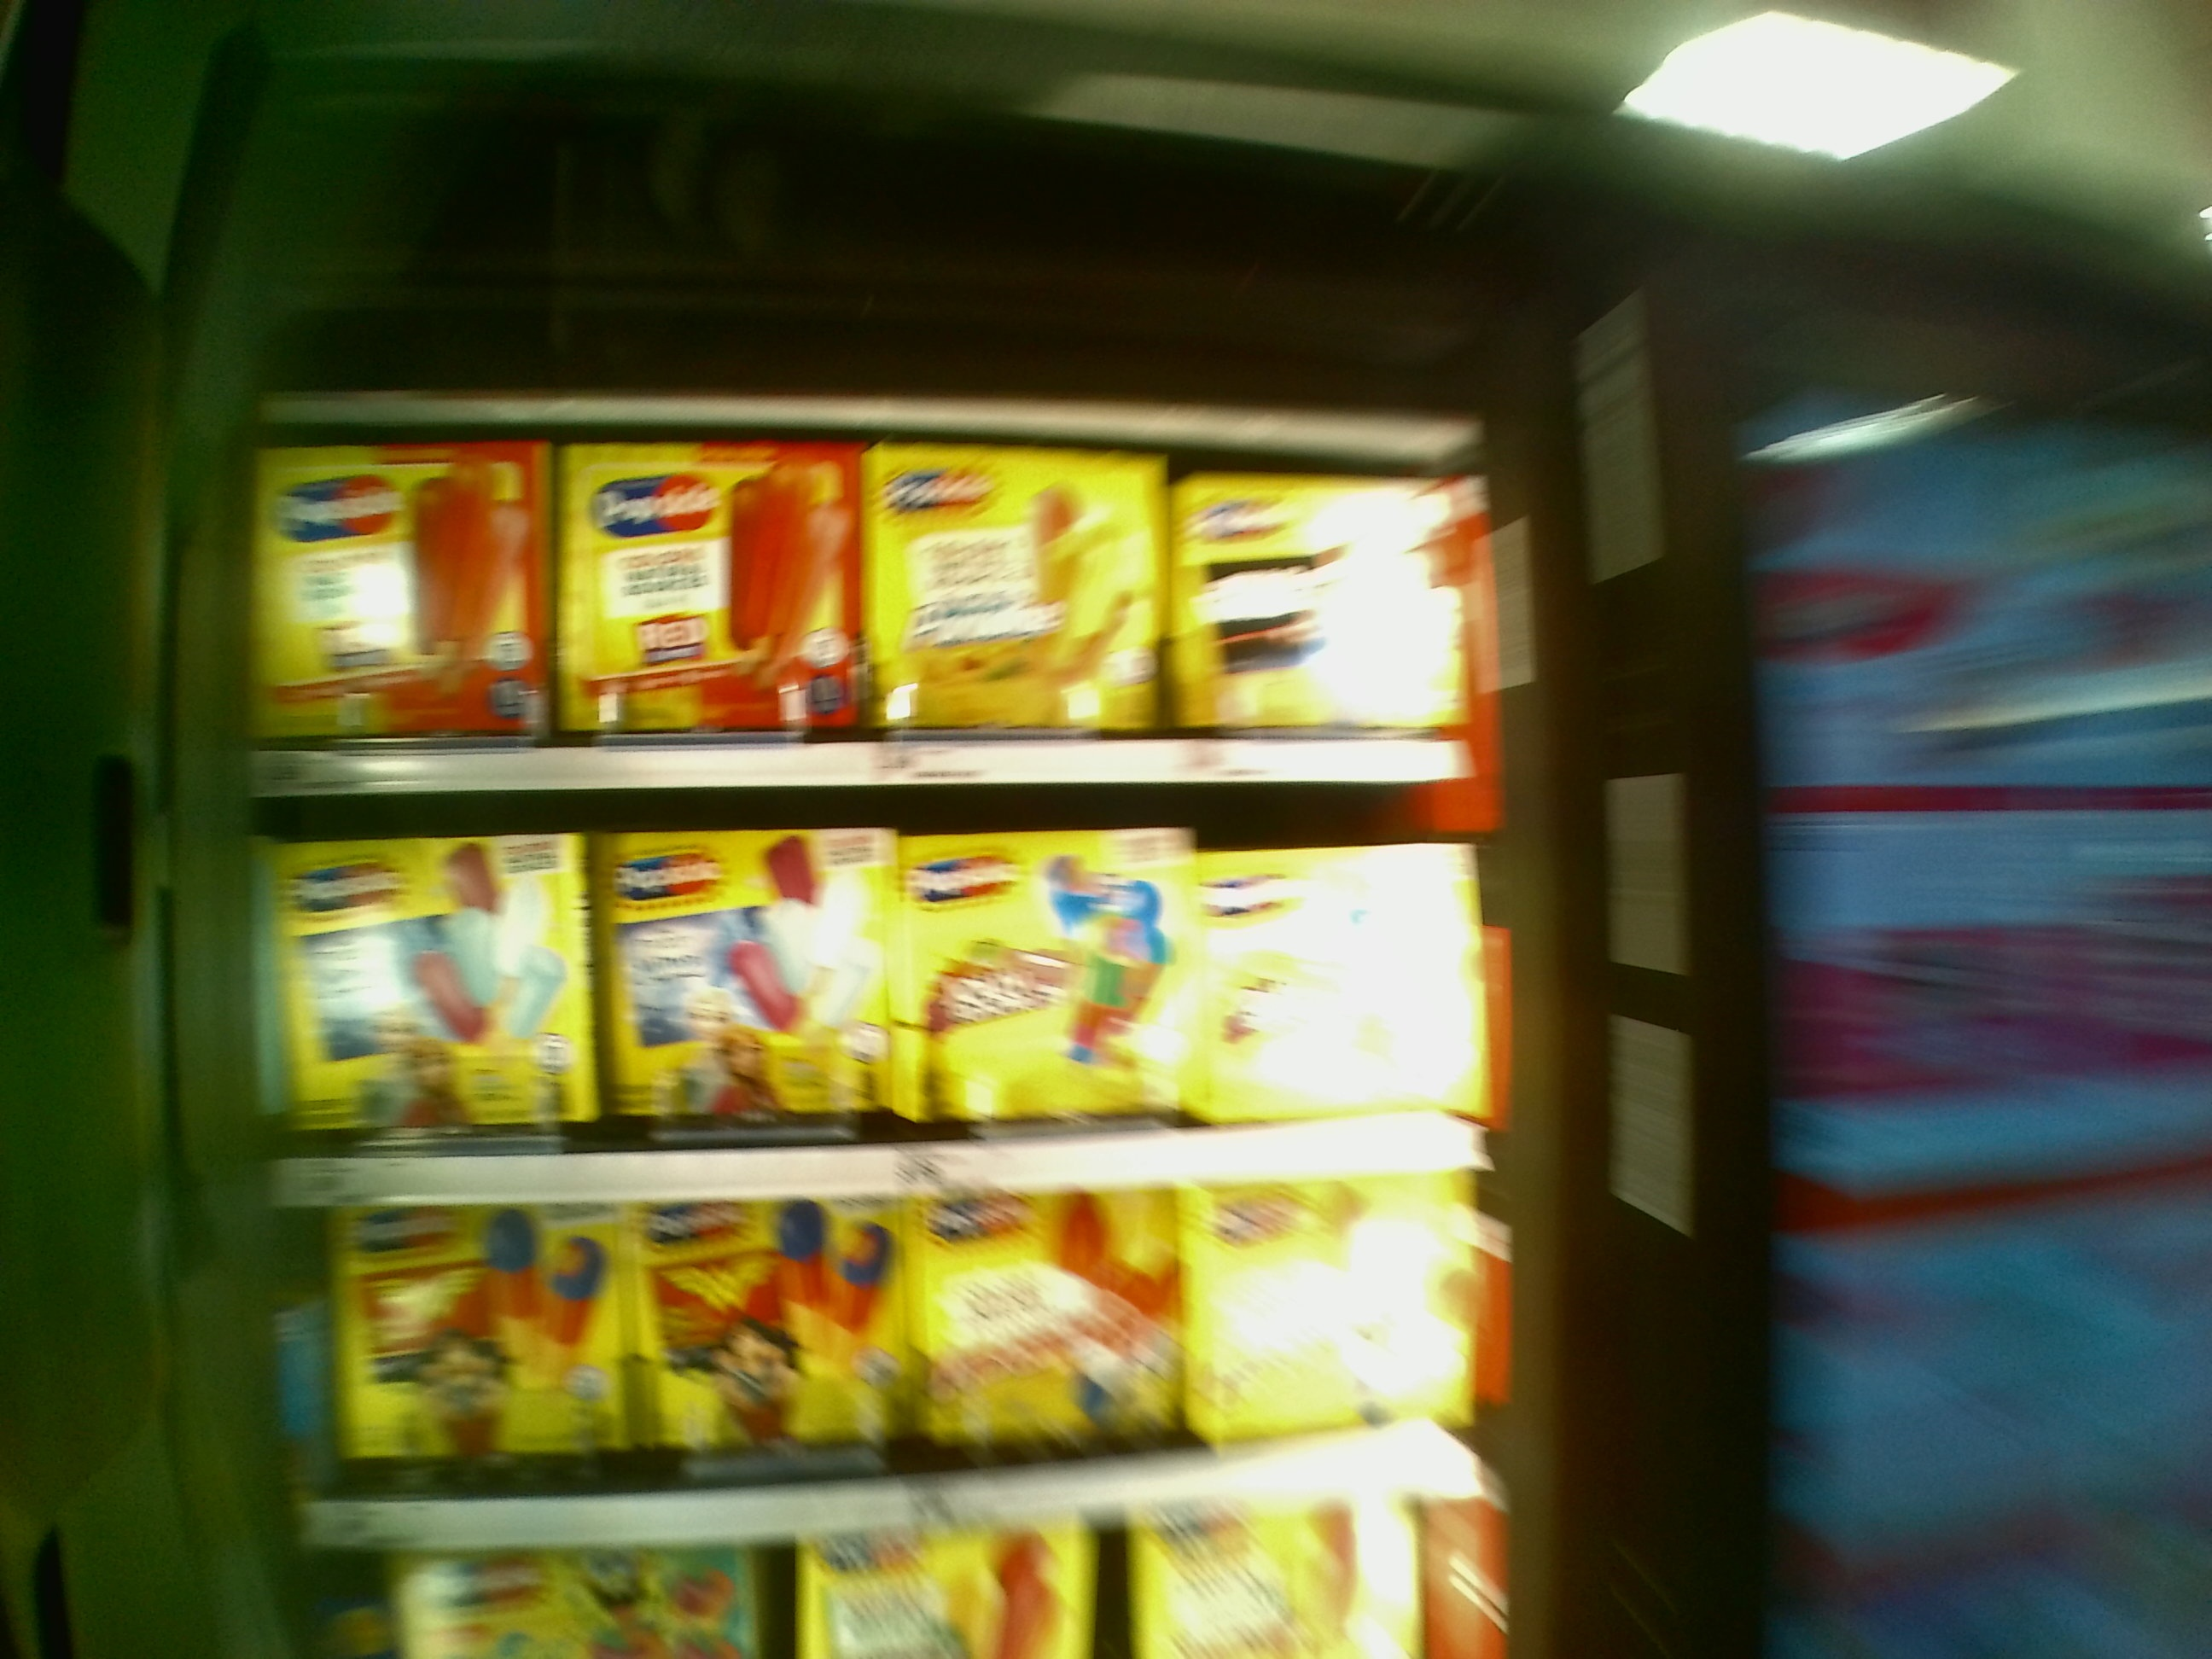shelf: (254, 800, 1496, 1187), (242, 401, 1446, 791), (279, 1197, 1480, 1540)
